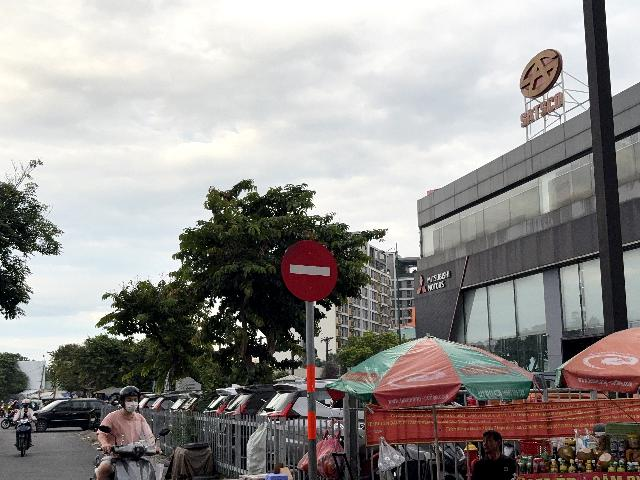cam-di-nguoc-chieu: (282, 239, 337, 302)
